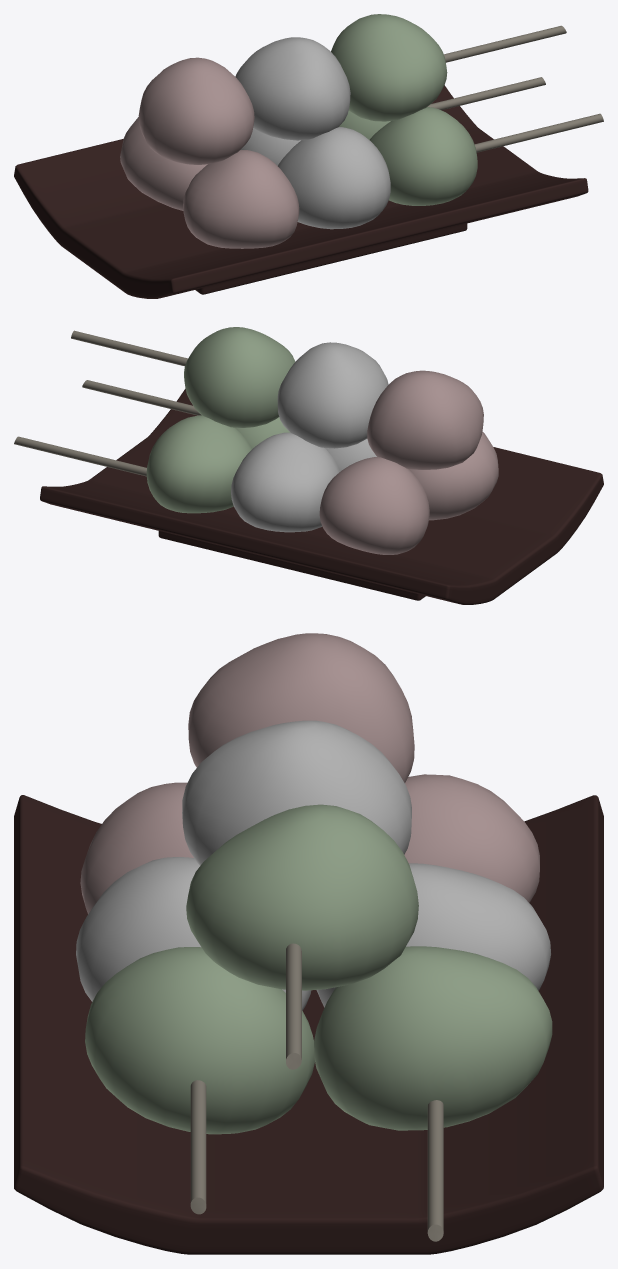
Rendered from dango.fbx.
3 renders of one model, top to bottom at view 1: azimuth 30°, elevation 25°; view 2: azimuth 150°, elevation 25°; view 3: azimuth 270°, elevation 25°, orthographic. The views are drawn at different scales.
Parts seen in each view (by area): view 1: pCube1, polySurface9, polySurface11, polySurface3, polySurface10, polySurface2, polySurface1, polySurface6, polySurface4, polySurface12, polySurface8, polySurface7 (+1 smaller); view 2: pCube1, polySurface9, polySurface10, polySurface11, polySurface6, polySurface7, polySurface5, polySurface3, polySurface8, polySurface12, polySurface4, polySurface2 (+1 smaller); view 3: pCube1, polySurface5, polySurface11, polySurface1, polySurface10, polySurface9, polySurface6, polySurface7, polySurface2, polySurface3, polySurface8, polySurface4 (+1 smaller).
Boxes of the visible parts, <box> form: pCube1: <box>14,85,588,298</box>; polySurface9: <box>138,57,254,164</box>; polySurface11: <box>331,14,447,121</box>; polySurface3: <box>183,150,299,248</box>; polySurface10: <box>235,37,350,140</box>; polySurface2: <box>278,127,390,229</box>; polySurface1: <box>369,107,477,205</box>; polySurface6: <box>120,117,207,210</box>; polySurface4: <box>474,113,603,152</box>; polySurface12: <box>444,25,566,62</box>; polySurface8: <box>427,77,545,110</box>; polySurface7: <box>240,128,300,165</box>; pCube1: <box>40,389,603,604</box>; polySurface9: <box>367,370,483,469</box>; polySurface10: <box>277,342,388,448</box>; polySurface11: <box>184,327,295,427</box>; polySurface6: <box>319,457,429,554</box>; polySurface7: <box>231,432,340,532</box>; polySurface5: <box>146,415,252,513</box>; polySurface3: <box>408,431,498,520</box>; polySurface8: <box>14,436,146,476</box>; polySurface12: <box>71,330,187,366</box>; polySurface4: <box>82,380,201,415</box>; polySurface2: <box>326,439,376,471</box>; pCube1: <box>14,795,603,1254</box>; polySurface5: <box>314,946,552,1130</box>; polySurface11: <box>186,804,418,990</box>; polySurface1: <box>85,947,314,1134</box>; polySurface10: <box>182,720,411,865</box>; polySurface9: <box>188,633,414,782</box>; polySurface6: <box>404,774,539,902</box>; polySurface7: <box>316,863,550,1007</box>; polySurface2: <box>76,857,311,1010</box>; polySurface3: <box>80,782,193,914</box>; polySurface8: <box>427,1100,443,1241</box>; polySurface4: <box>190,1080,206,1214</box>.
Bounding box in the file's own units: 8.91 × 3.53 × 5.08.
